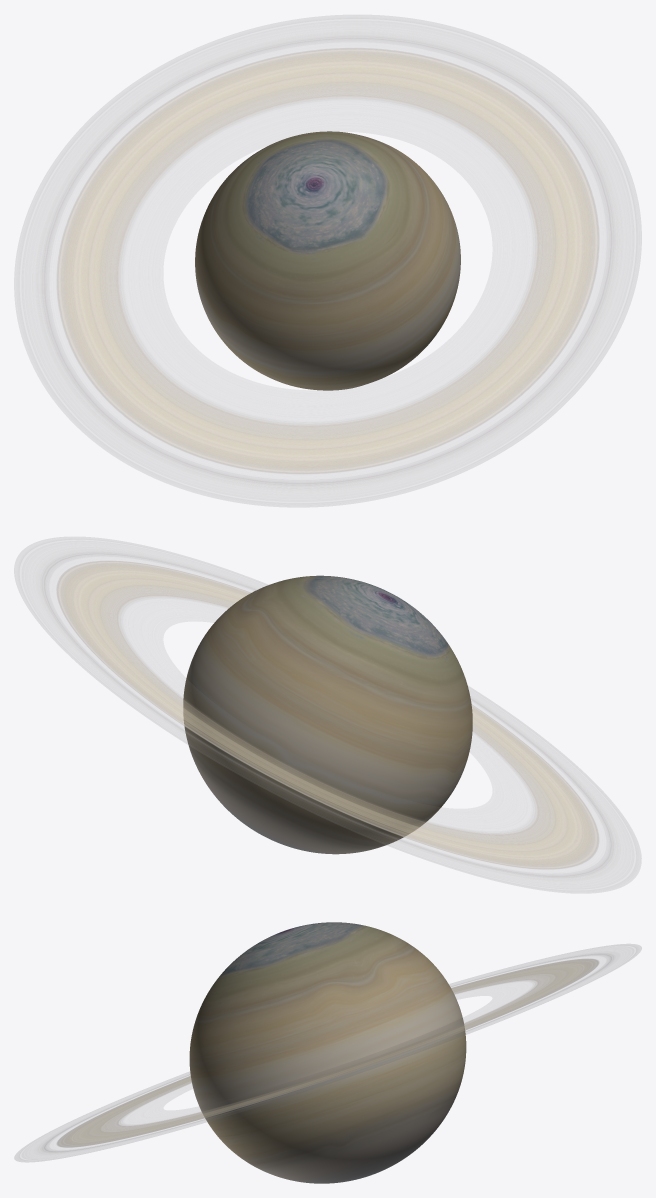
Rendered from saturn.glb.
The picture shows the model from 3 angles, top to bottom: view 1: azimuth 30°, elevation 25°; view 2: azimuth 150°, elevation 25°; view 3: azimuth 270°, elevation 25°; orthographic projection. The views are drawn at different scales.
Visible parts, largest first — view 1: Rings, Surface; view 2: Surface, Rings; view 3: Surface, Rings.
Boxes of the visible parts, box(x1,y1,x2,y2) form: Rings: box(14, 15, 641, 506); Surface: box(195, 131, 460, 390); Surface: box(183, 575, 472, 854); Rings: box(14, 537, 641, 892); Surface: box(189, 922, 466, 1183); Rings: box(14, 944, 641, 1161).
Bounding box in the file's own units: 4.51 × 2.14 × 4.51.
Materials: 2 (2 with a texture image).
